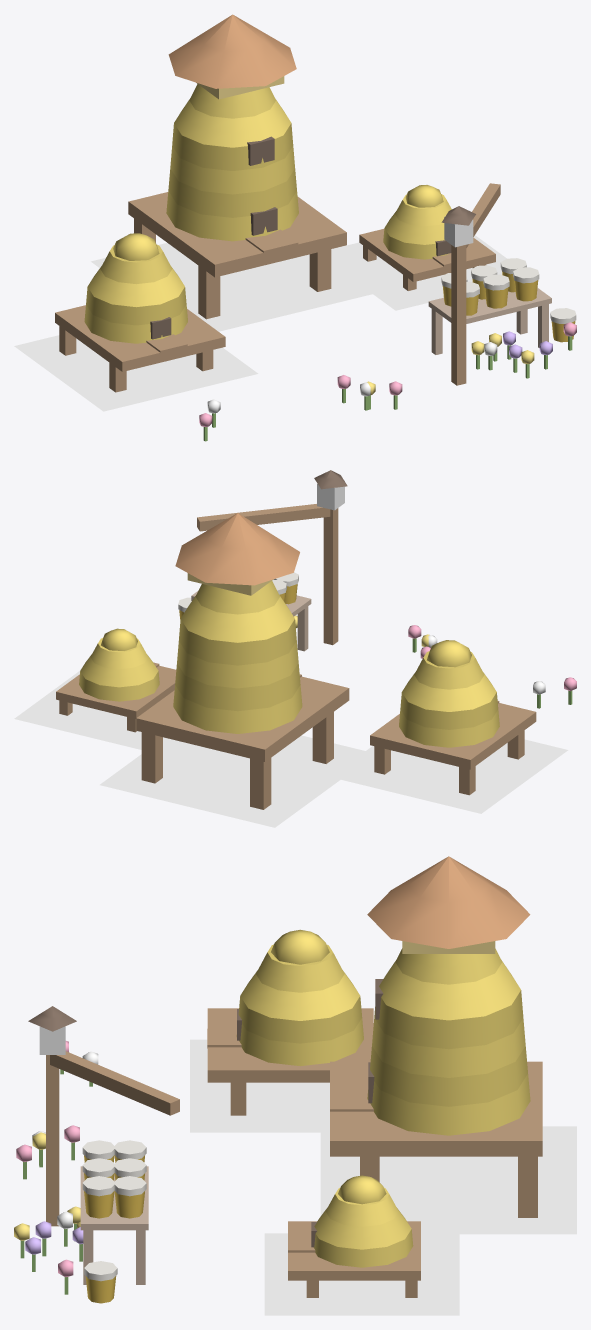
File: beehive_2.glb
The picture shows the model from 3 angles, top to bottom: view 1: azimuth 30°, elevation 25°; view 2: azimuth 150°, elevation 25°; view 3: azimuth 270°, elevation 25°; orthographic projection. The views are drawn at different scales.
Visible parts, largest first — view 1: body4, beehive_2, body3, body2, body; view 2: body4, beehive_2, body; view 3: body4, beehive_2, body3, body, body2.
Boxes of the visible parts, <box> form: body4: <box>55,14,576,441</box>; beehive_2: <box>14,235,506,411</box>; body3: <box>500,258,576,342</box>; body2: <box>471,265,509,308</box>; body: <box>441,273,479,315</box>; body4: <box>56,470,576,809</box>; beehive_2: <box>14,671,568,827</box>; body: <box>272,572,298,604</box>; body4: <box>14,856,542,1297</box>; beehive_2: <box>190,1039,576,1315</box>; body3: <box>82,1176,146,1303</box>; body: <box>82,1140,146,1162</box>; body2: <box>82,1158,146,1180</box>.
Bounding box in the file's own units: 1.8 × 0.9968 × 1.55.
